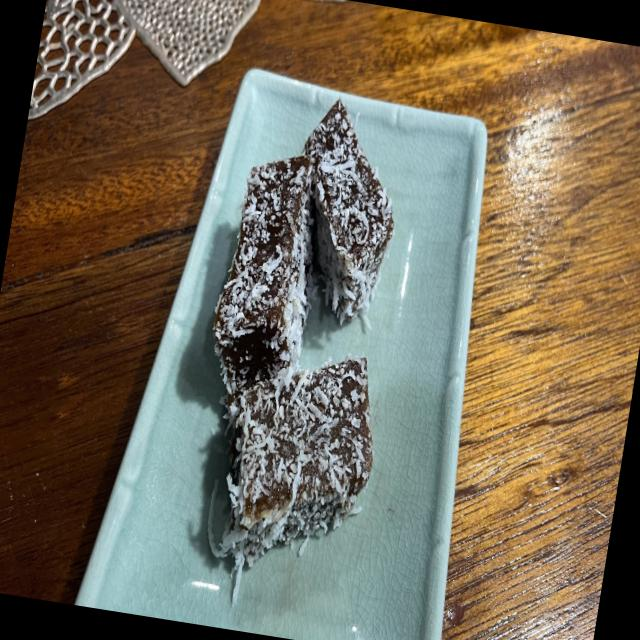kaswi: (214, 357, 373, 570), (213, 155, 312, 407), (305, 100, 394, 323)
